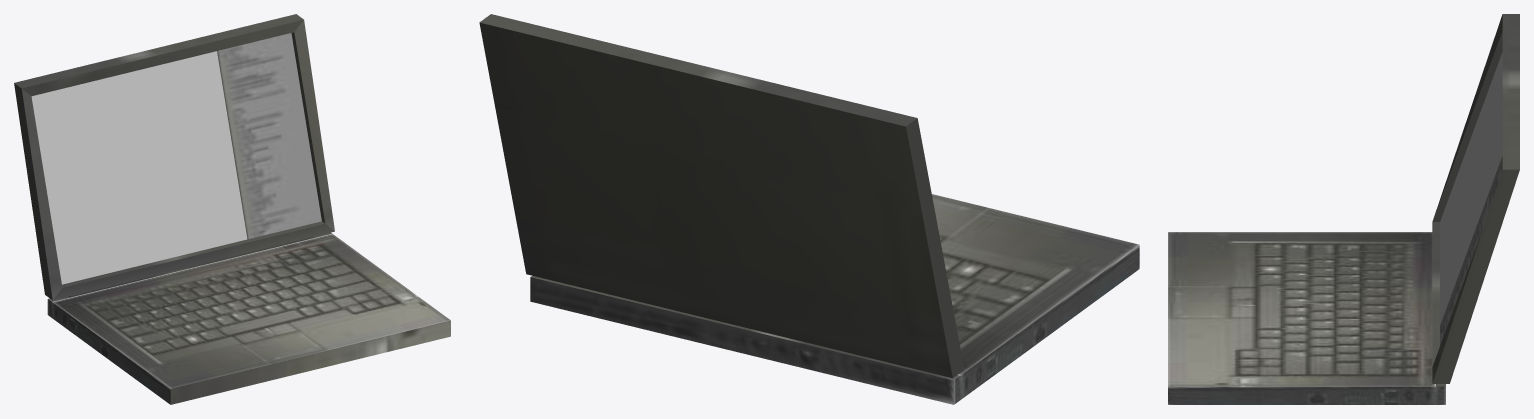
File: livestream_laptop.FBX
3 renders of one model, left to right at view 1: azimuth 30°, elevation 25°; view 2: azimuth 150°, elevation 25°; view 3: azimuth 270°, elevation 25°, orthographic. The views are drawn at different scales.
Parts seen in each view (by area): view 1: livestream_laptop; view 2: livestream_laptop; view 3: livestream_laptop.
Boxes of the visible parts, <box> form: livestream_laptop: <box>14,14,450,404</box>; livestream_laptop: <box>479,14,1139,404</box>; livestream_laptop: <box>1168,14,1519,404</box>.
Bounding box in the file's own units: 62.04 × 43.77 × 59.23.
